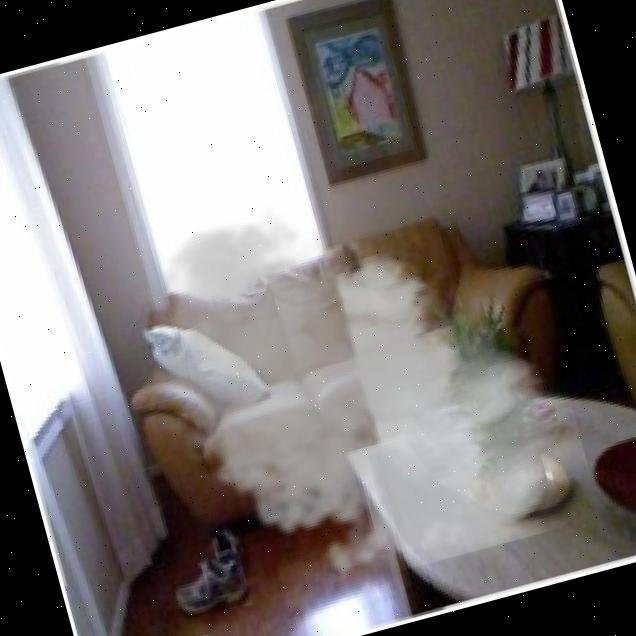smoke: (101, 141, 607, 636)
